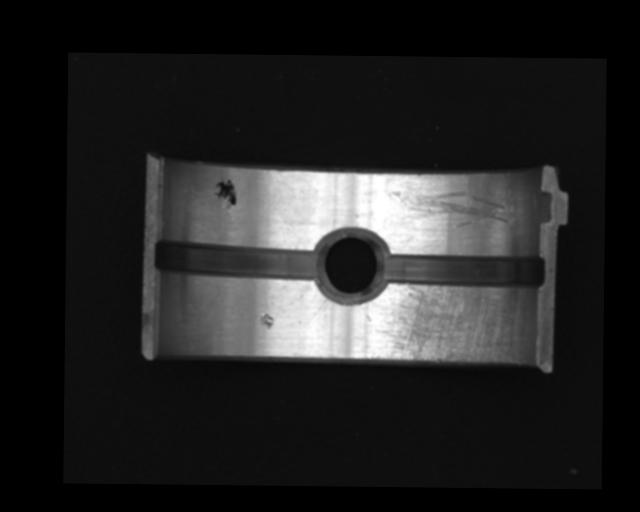blot: (212, 177, 237, 209)
bruise: (257, 313, 275, 330)
gap: (152, 242, 323, 280), (380, 251, 546, 289)
hole: (313, 227, 390, 301)
nick: (388, 188, 509, 229), (304, 297, 328, 326)
scratch: (363, 282, 530, 365)
